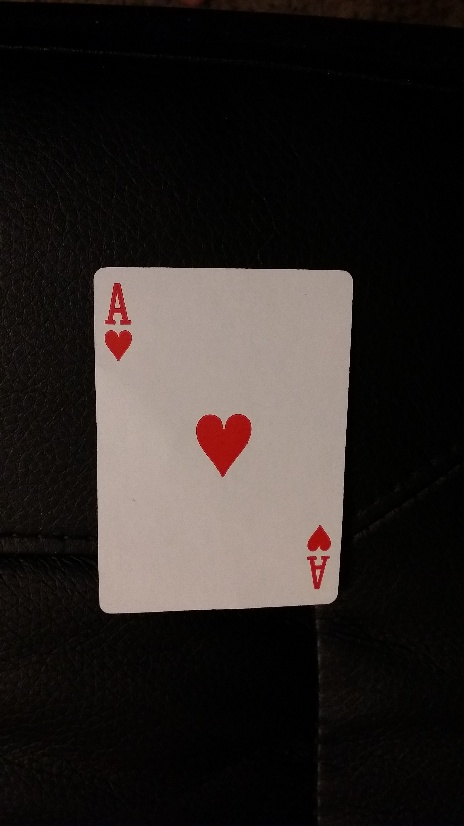Ha: (101, 279, 136, 366), (297, 515, 333, 592)
